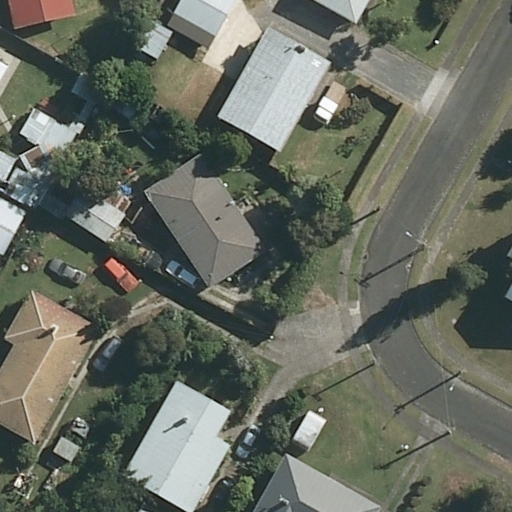DT: (403, 231, 432, 251), (445, 370, 463, 392), (366, 356, 383, 372), (441, 421, 453, 436)
